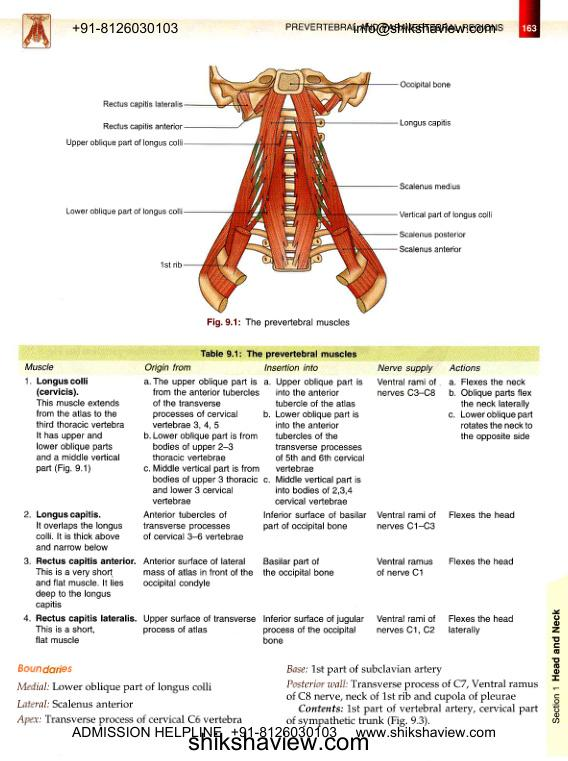caption: (199, 349, 359, 360), (206, 317, 351, 329)
image: (60, 59, 497, 315)
sub-section-heading: (16, 663, 74, 675), (286, 679, 349, 689), (16, 681, 50, 692), (16, 699, 50, 709), (15, 714, 42, 726), (286, 664, 308, 674)
table: (19, 360, 539, 647)
text: (285, 678, 539, 726), (44, 713, 243, 726), (51, 681, 213, 695), (310, 663, 443, 677), (51, 699, 134, 709)
